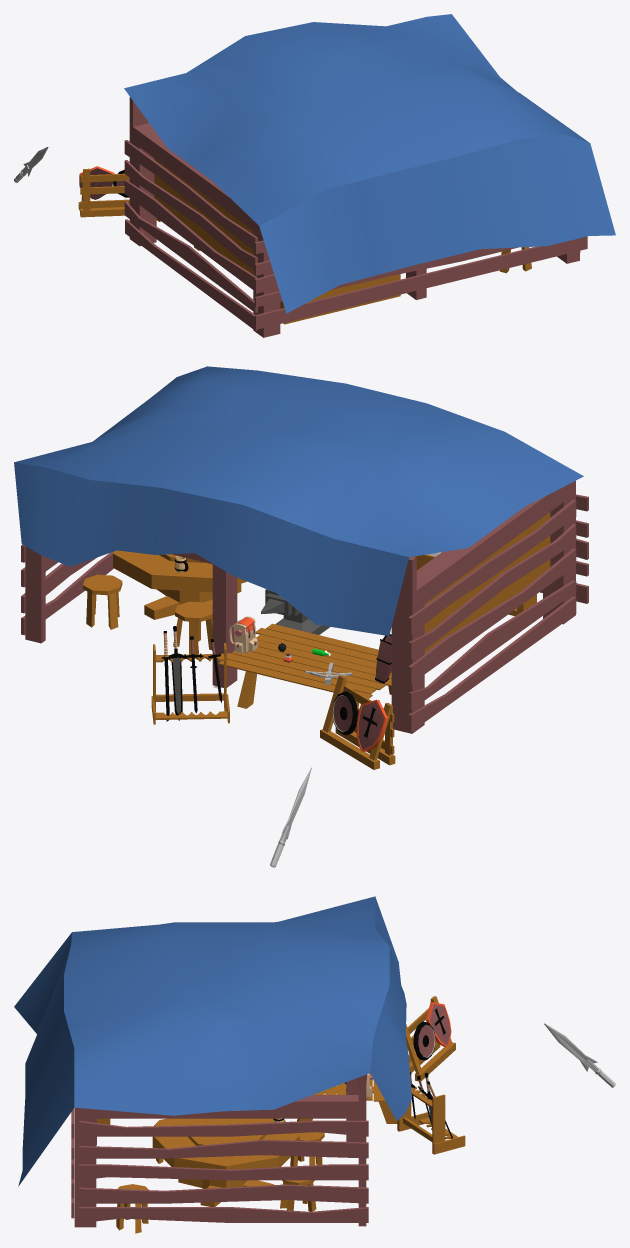
File: stall-weapon-by-shantoan-AckcE9x4MA.glb
The picture shows the model from 3 angles, top to bottom: view 1: azimuth 30°, elevation 25°; view 2: azimuth 150°, elevation 25°; view 3: azimuth 270°, elevation 25°; orthographic projection. The views are drawn at different scales.
Parts seen in each view (by area): view 1: Plane_2, Cube_7, Cube_1_2, Cube_10_2, Cube_8, Cube_11_2, Cube_12_3, Cube_9_2, Cube_9, Cube_6_3, Cube_28; view 2: Plane_2, Cube_1_2, Cylinder_19, Cube_10_2, Cube_8, Cube_11_2, Cube_12_3, Cube_9_2, Cube_9, Cube, Cube_2, Cylinder_21 (+17 smaller); view 3: Plane_2, Cube_2, Cube_14_2, Cylinder_19, Cube_13_4, Cube_16_2, Cube_15, Cube_17_2, Cube_1, Cylinder_14, Cube_14, Cube_3 (+3 smaller).
Part boxes in pixels (x1=…): Plane_2: x1=124, y1=14, x2=615, y2=313; Cube_7: x1=254, y1=236, x2=587, y2=329; Cube_1_2: x1=129, y1=97, x2=426, y2=337; Cube_10_2: x1=124, y1=180, x2=257, y2=290; Cube_8: x1=124, y1=140, x2=257, y2=250; Cube_11_2: x1=124, y1=201, x2=257, y2=312; Cube_12_3: x1=125, y1=219, x2=257, y2=330; Cube_9_2: x1=124, y1=160, x2=257, y2=270; Cube_9: x1=154, y1=158, x2=253, y2=273; Cube_6_3: x1=254, y1=247, x2=518, y2=307; Cube_28: x1=280, y1=274, x2=400, y2=324; Plane_2: x1=14, y1=366, x2=583, y2=635; Cube_1_2: x1=391, y1=481, x2=575, y2=733; Cylinder_19: x1=113, y1=550, x2=246, y2=619; Cube_10_2: x1=408, y1=548, x2=576, y2=683; Cube_8: x1=408, y1=499, x2=576, y2=634; Cube_11_2: x1=408, y1=580, x2=576, y2=709; Cube_12_3: x1=408, y1=596, x2=576, y2=731; Cube_9_2: x1=408, y1=524, x2=576, y2=659; Cube_9: x1=424, y1=512, x2=550, y2=653; Cube: x1=172, y1=553, x2=237, y2=687; Cube_2: x1=25, y1=546, x2=45, y2=643; Cylinder_21: x1=83, y1=574, x2=122, y2=629; Plane_2: x1=14, y1=896, x2=411, y2=1186; Cube_2: x1=74, y1=1074, x2=367, y2=1227; Cube_14_2: x1=79, y1=1184, x2=368, y2=1203; Cylinder_19: x1=152, y1=1118, x2=299, y2=1206; Cube_13_4: x1=79, y1=1207, x2=368, y2=1222; Cube_16_2: x1=79, y1=1139, x2=368, y2=1158; Cube_15: x1=79, y1=1164, x2=368, y2=1180; Cube_17_2: x1=79, y1=1120, x2=368, y2=1136; Cube_1: x1=426, y1=1002, x2=451, y2=1046; Cylinder_14: x1=413, y1=1021, x2=435, y2=1060; Cube_14: x1=432, y1=1094, x2=445, y2=1153; Cube_3: x1=544, y1=1023, x2=597, y2=1071.
Size of the model in its own units: 11.97 by 6.65 by 16.57.
